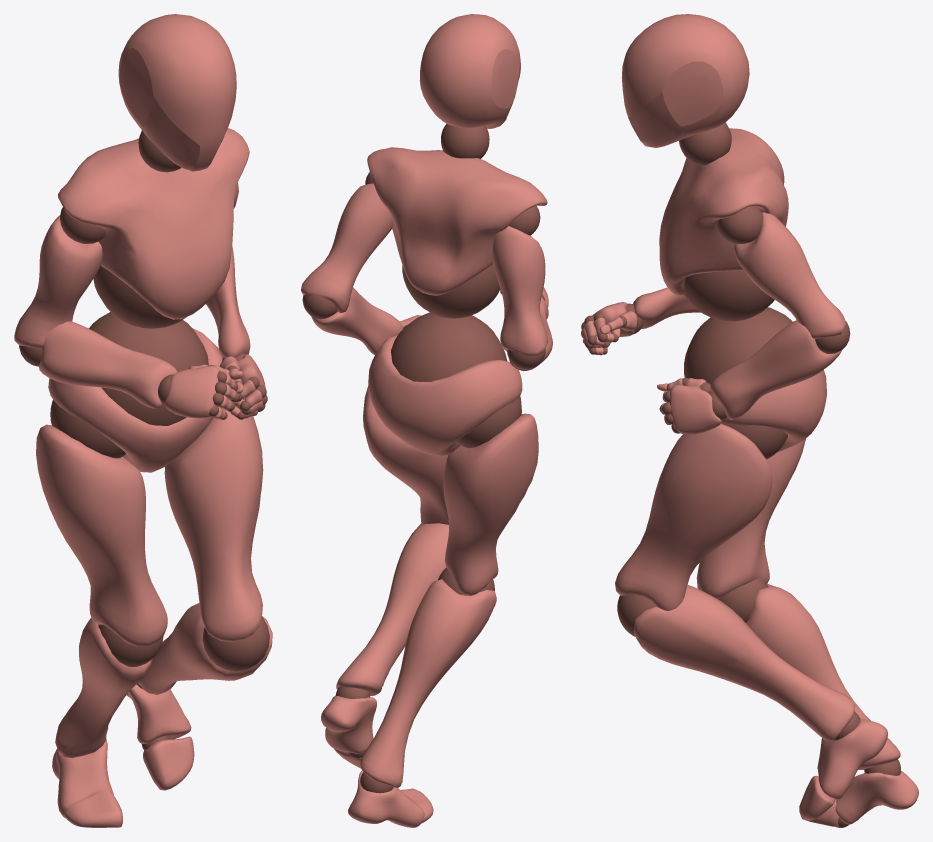
The picture shows the model from 3 angles, left to right: view 1: azimuth 30°, elevation 25°; view 2: azimuth 150°, elevation 25°; view 3: azimuth 270°, elevation 25°; orthographic projection. The views are drawn at different scales.
Visible parts, largest first — view 1: Beta_Surface, Beta_Joints; view 2: Beta_Surface, Beta_Joints; view 3: Beta_Surface, Beta_Joints.
Part boxes in pixels (bbox=[...]): Beta_Surface: bbox=[14, 14, 272, 827]; Beta_Joints: bbox=[19, 130, 269, 750]; Beta_Surface: bbox=[301, 14, 552, 827]; Beta_Joints: bbox=[302, 123, 545, 793]; Beta_Surface: bbox=[581, 14, 918, 826]; Beta_Joints: bbox=[581, 122, 900, 827].
Size of the model in its own units: 0.504 by 1.73 by 0.6552.
